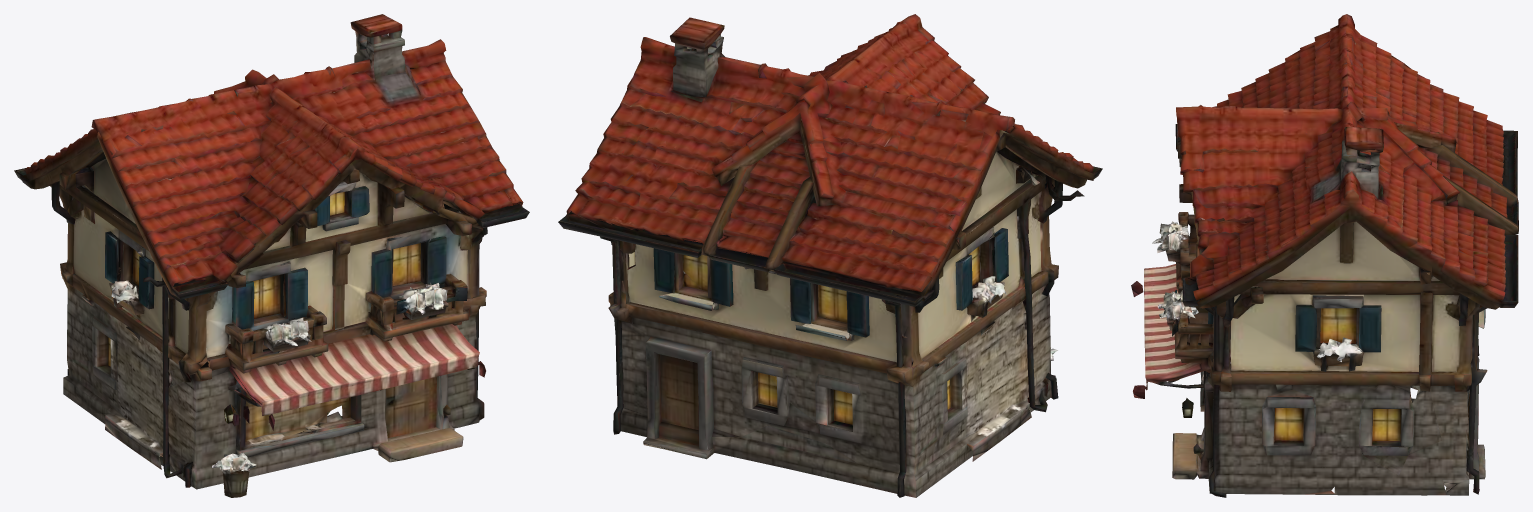
The picture shows the model from 3 angles, left to right: view 1: azimuth 30°, elevation 25°; view 2: azimuth 150°, elevation 25°; view 3: azimuth 270°, elevation 25°; orthographic projection. The views are drawn at different scales.
Visible parts, largest first — view 1: alpine__shop_2__native_mobile; view 2: alpine__shop_2__native_mobile; view 3: alpine__shop_2__native_mobile.
Part boxes in pixels (x1,y1,x2,y2): alpine__shop_2__native_mobile: (14,14,529,497); alpine__shop_2__native_mobile: (558,14,1102,497); alpine__shop_2__native_mobile: (1131,14,1518,497).
Size of the model in its own units: 1 by 0.9269 by 0.93.
Materials: 1 (1 with a texture image).
